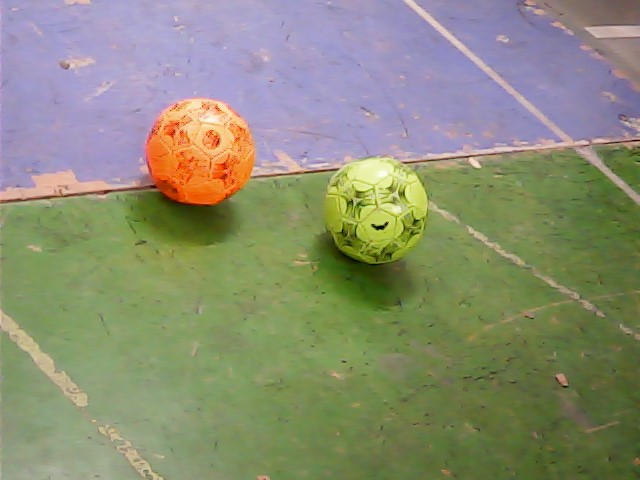Green_ball: (316, 151, 437, 269)
Orange_ball: (144, 96, 255, 209)
